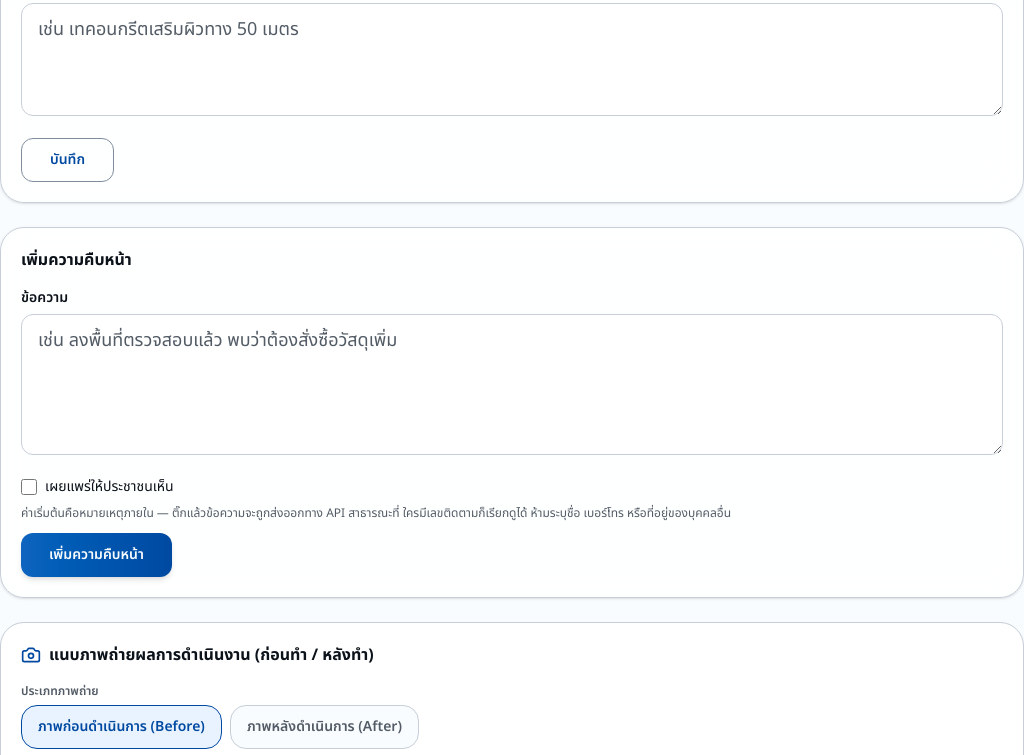
it: CaseDetailClient — FLOW-04: กรอกหลายฟอร์ม บันทึกแล้วไม่ล้างดราฟต์การ์ดอื่น และเคลียร์ฟอร์มที่สำเร็จ › พิมพ์ในช่องความคืบหน้า และช่องรายละเอียดการดำเนินการ เมื่อส่งความคืบหน้าสำเร็จ ช่องความคืบหน้าถูกรีเซ็ต แต่รายละเอียดการดำเนินการยังอยู่
(page scrolled)
// พิมพ์ข้อมูลลงใน 2 ฟอร์มที่เป็นอิสระต่อกัน
Type "ข้อความความคืบหน้าใหม่ทดสอบ" into the text box labelled "ข้อความ".
click(512, 384); type("ข้อความความคืบหน้าใหม่ทดสอบ")  # box x1=21 y1=314 x2=1003 y2=455
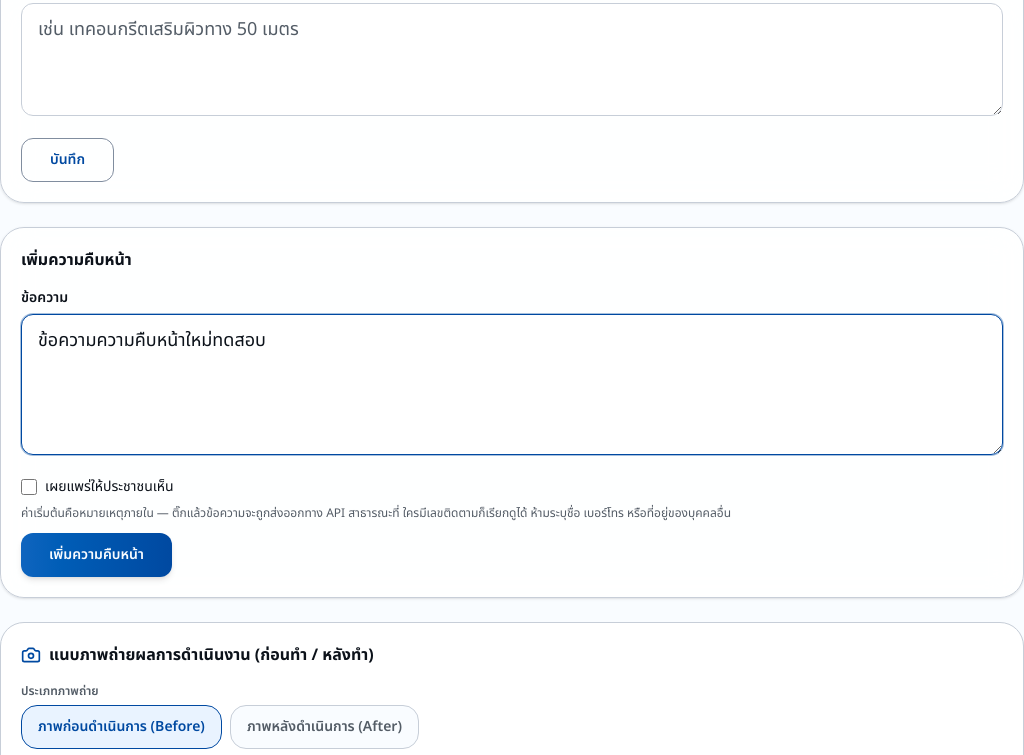
Click the checkbox named "เผยแพร่ให้ประชาชนเห็นบนหน้าติดตามเรื่อง".
click(29, 487)  # box x1=21 y1=479 x2=37 y2=495
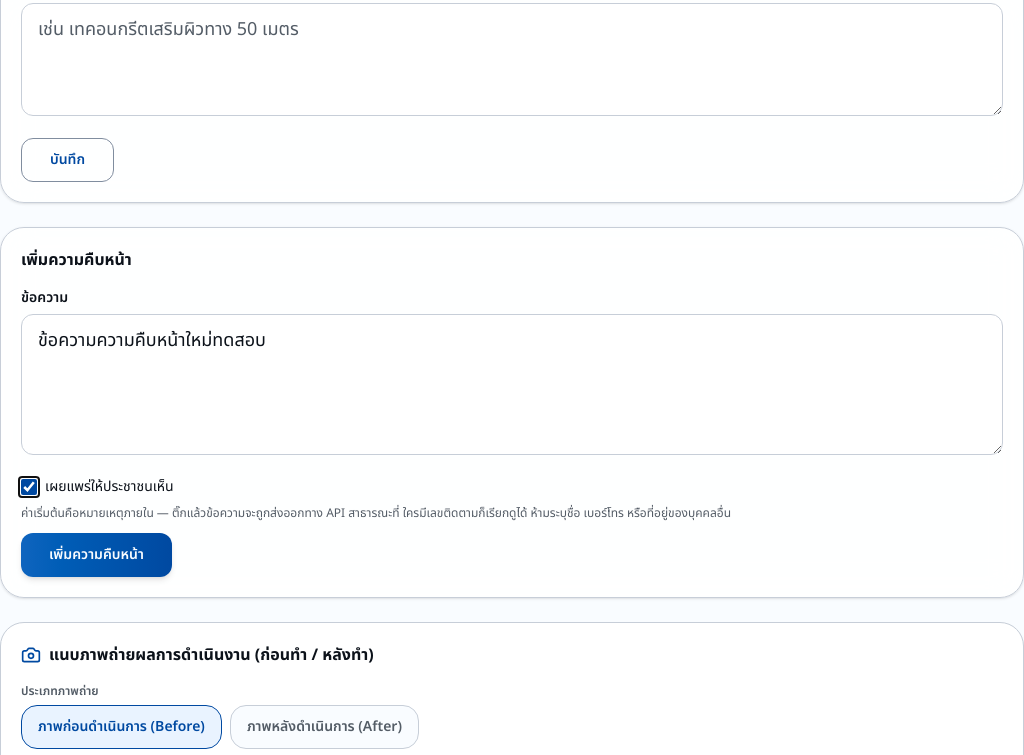
Type "ร่างข้อความสิ่งที่ทำไปแล้วยังไม่บันทึก" into the text box labelled "สิ่งที่ทำไปแล้ว (ภายใน)".
click(512, 60); type("ร่างข้อความสิ่งที่ทำไปแล้วยังไม่บันทึก")  # box x1=21 y1=3 x2=1003 y2=116
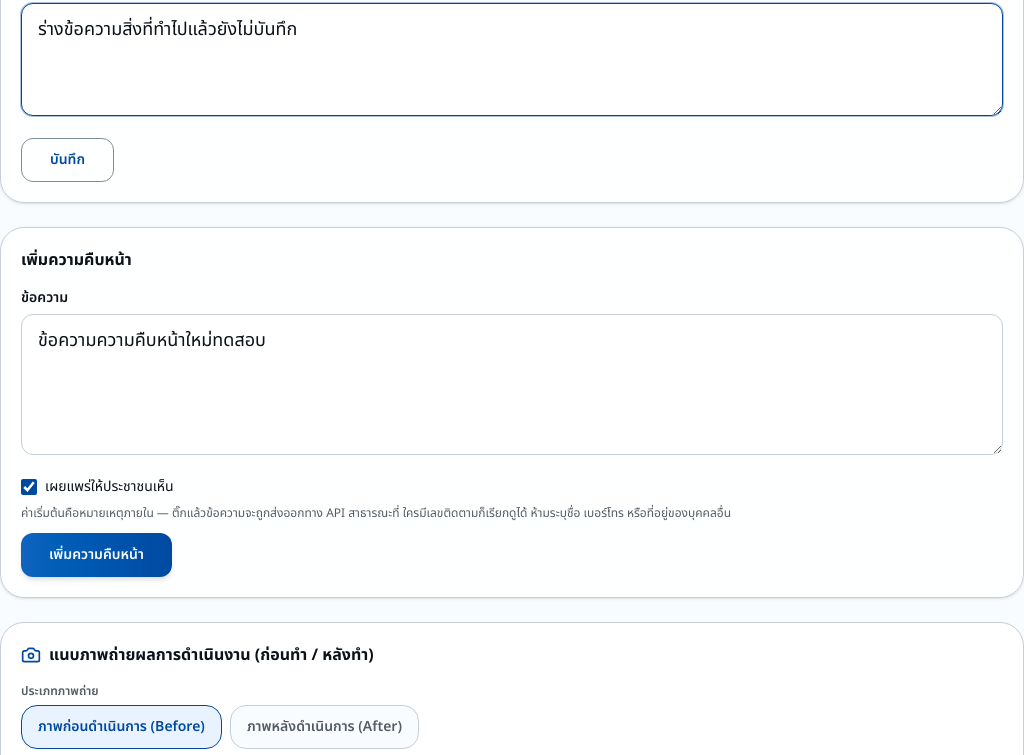
Expected: the checkbox named "เผยแพร่ให้ประชาชนเห็นบนหน้าติดตามเรื่อง" is checked, x1=21 y1=479 x2=37 y2=495
// กดบันทึกเฉพาะฟอร์มความคืบหน้า
Click the button "เพิ่มความคืบหน้า".
click(96, 555)  # box x1=21 y1=533 x2=172 y2=577
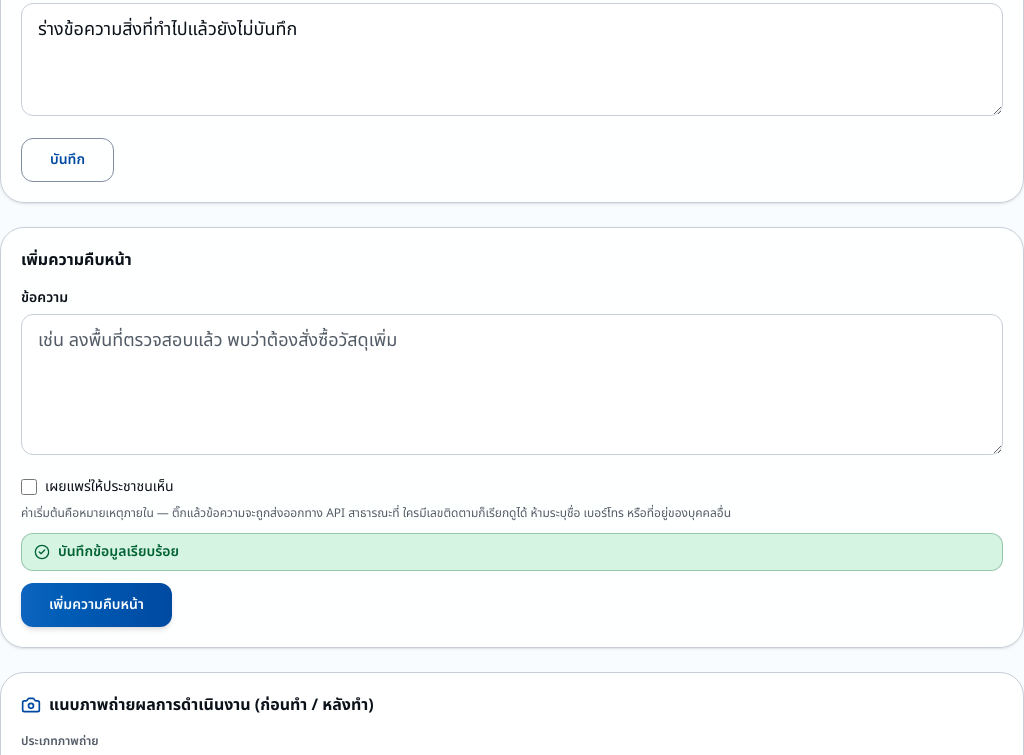
Expected: the checkbox named "เผยแพร่ให้ประชาชนเห็นบนหน้าติดตามเรื่อง" is not checked, x1=21 y1=479 x2=37 y2=495
Expected: the text box labelled "ข้อความ" is empty, x1=21 y1=314 x2=1003 y2=455
